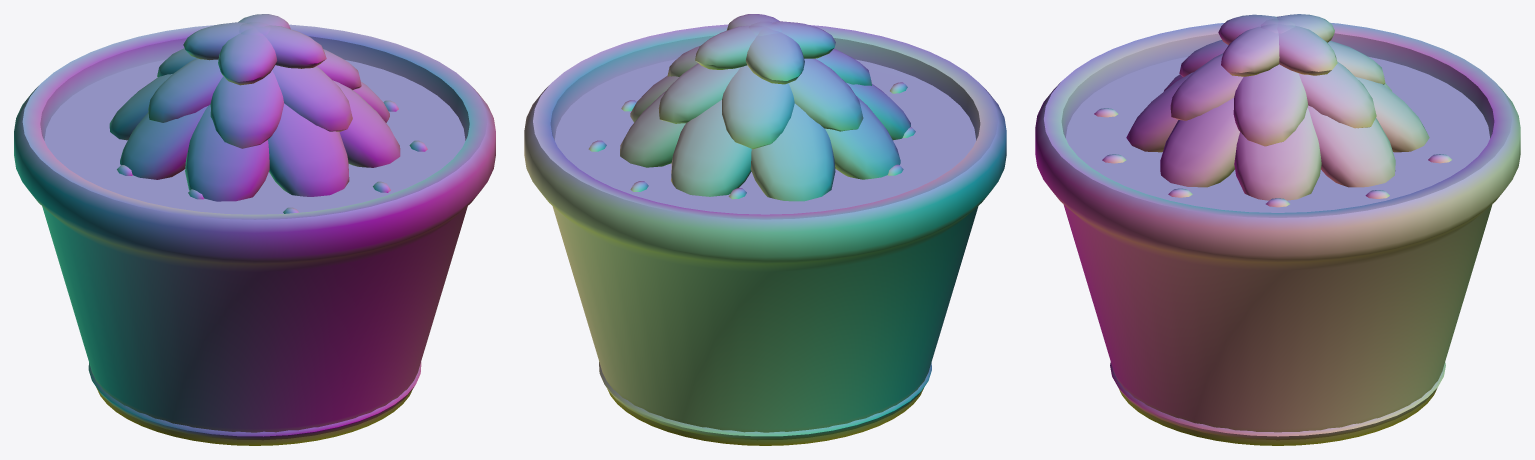
File: env_pot.glb
3 renders of one model, left to right at view 1: azimuth 30°, elevation 25°; view 2: azimuth 150°, elevation 25°; view 3: azimuth 270°, elevation 25°, orthographic.
Visible parts, largest first — view 1: env_pot_mesh; view 2: env_pot_mesh; view 3: env_pot_mesh.
Boxes of the visible parts, x1=… form: env_pot_mesh: x1=14, y1=14, x2=495, y2=445; env_pot_mesh: x1=524, y1=14, x2=1006, y2=445; env_pot_mesh: x1=1035, y1=14, x2=1520, y2=445.
Size of the model in its own units: 0.902 by 0.7253 by 0.902.
